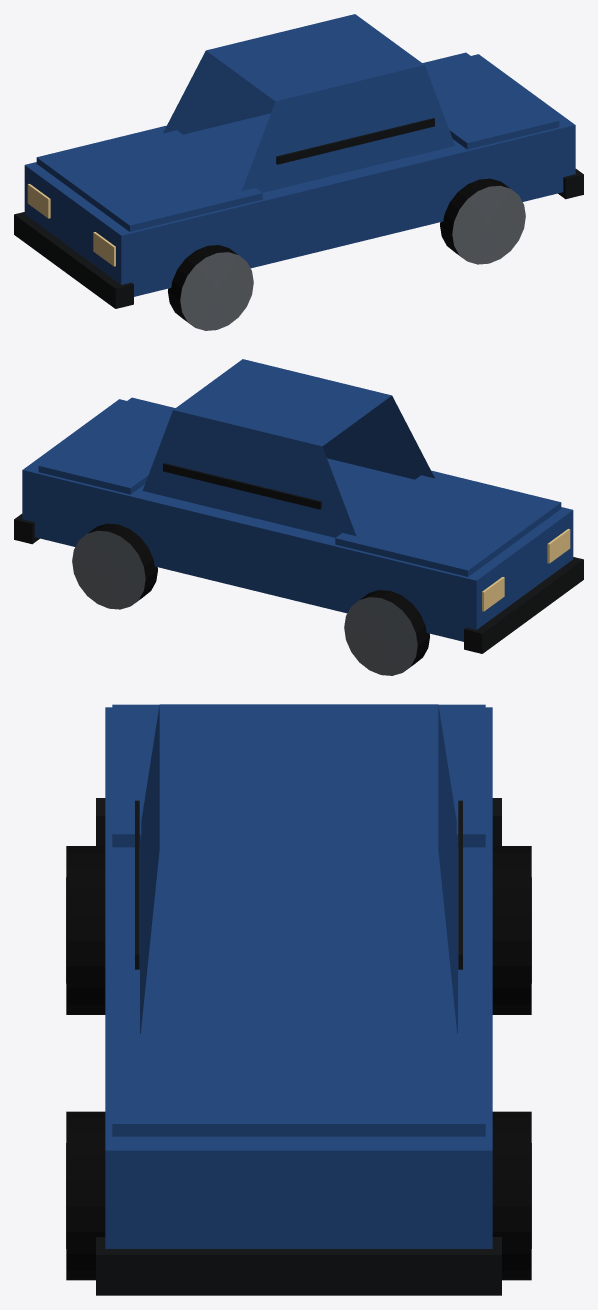
File: european_sedan_01.obj
3 renders of one model, top to bottom at view 1: azimuth 30°, elevation 25°; view 2: azimuth 150°, elevation 25°; view 3: azimuth 270°, elevation 25°, orthographic. The views are drawn at different scales.
Visible parts, largest first — view 1: sedan_body, sedan_cabin, hood, trunk, wheel_FR, wheel_RR, front_bumper, window_trim_right, rear_bumper, headlamp_left, headlamp_right; view 2: sedan_body, sedan_cabin, hood, trunk, wheel_FL, wheel_RL, front_bumper, window_trim_left, rear_bumper, headlamp_right, headlamp_left; view 3: sedan_body, sedan_cabin, trunk, rear_bumper, hood, wheel_FL, wheel_FR, wheel_RL, wheel_RR, front_bumper, window_trim_left, window_trim_right.
Boxes of the visible parts, x1,y1,x2,y2 form: sedan_body: [24, 54, 575, 296]; sedan_cabin: [163, 14, 455, 192]; hood: [36, 125, 262, 231]; trunk: [422, 52, 559, 149]; wheel_FR: [168, 245, 253, 330]; wheel_RR: [440, 178, 525, 264]; front_bumper: [14, 212, 133, 308]; window_trim_right: [276, 118, 434, 164]; rear_bumper: [558, 169, 583, 199]; headlamp_left: [27, 184, 50, 218]; headlamp_right: [93, 232, 115, 266]; sedan_body: [22, 399, 573, 641]; sedan_cabin: [142, 359, 434, 537]; hood: [335, 470, 561, 576]; trunk: [38, 397, 175, 494]; wheel_FL: [344, 590, 429, 675]; wheel_RL: [72, 523, 157, 609]; front_bumper: [464, 557, 583, 653]; window_trim_left: [163, 463, 321, 509]; rear_bumper: [14, 514, 39, 544]; headlamp_right: [547, 529, 570, 563]; headlamp_left: [482, 577, 504, 611]; sedan_body: [105, 707, 492, 1248]; sedan_cabin: [140, 704, 457, 1033]; trunk: [112, 1034, 485, 1136]; rear_bumper: [96, 1237, 501, 1295]; hood: [112, 704, 485, 847]; wheel_FL: [492, 846, 531, 1014]; wheel_FR: [66, 846, 105, 1014]; wheel_RL: [492, 1111, 531, 1280]; wheel_RR: [66, 1111, 105, 1280]; front_bumper: [96, 798, 501, 845]; window_trim_left: [458, 800, 462, 969]; window_trim_right: [135, 800, 139, 969].
Bounding box in the file's own units: 4.58 × 1.79 × 1.97.
